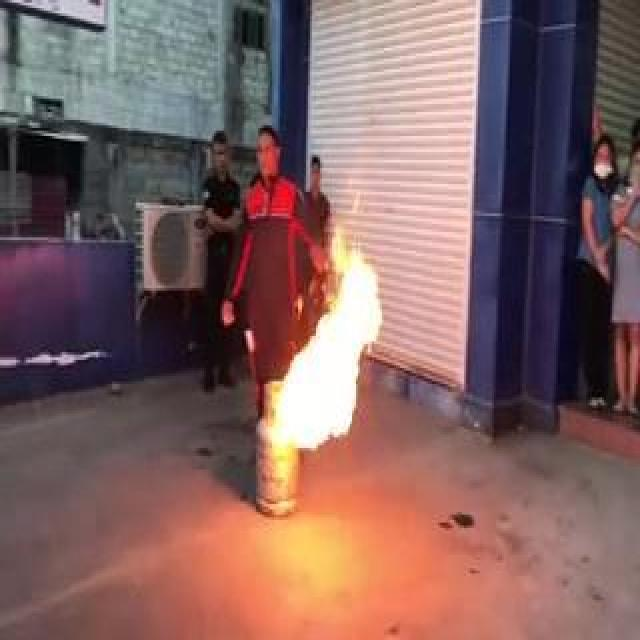Smoke: (266, 249, 382, 450)
